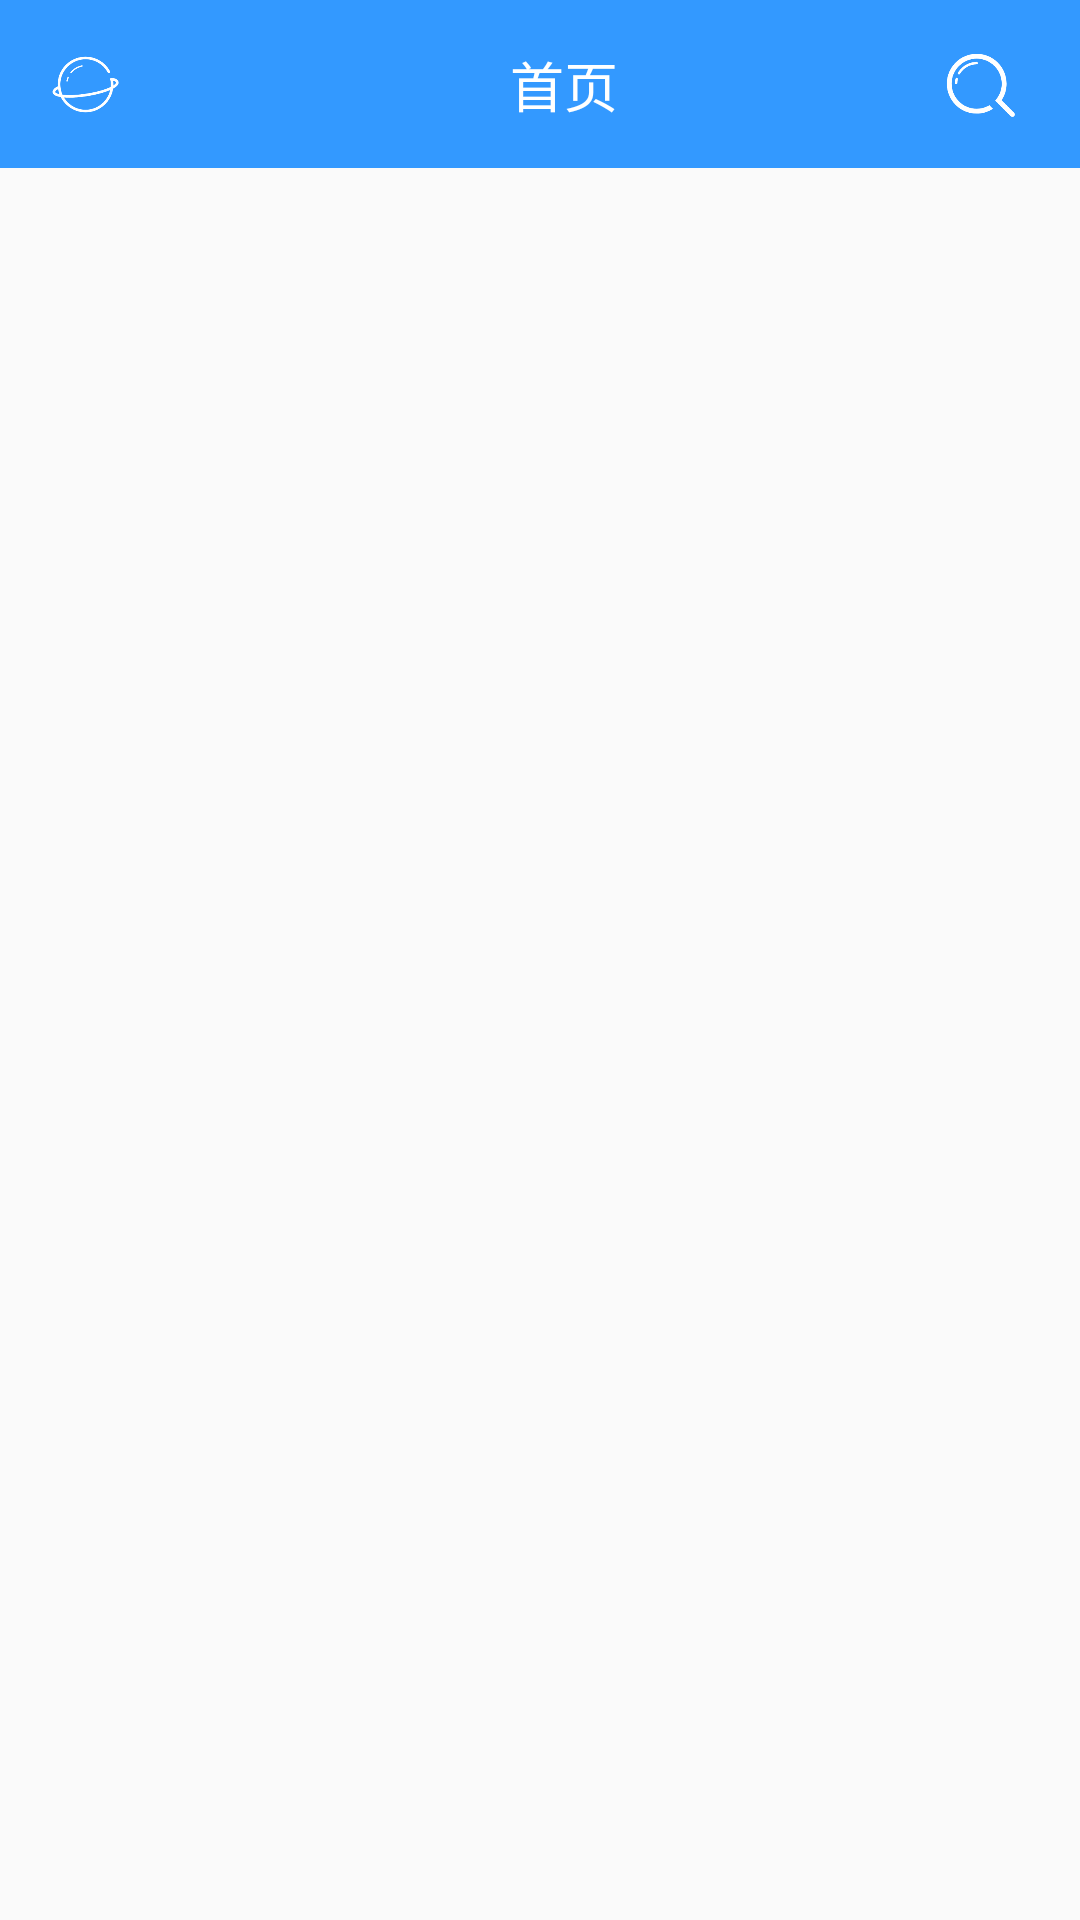

Locate icon controls on the screen. Image size 1080*1920, boxes as (x1=x1, y1=y1, x2=x2, y2=y2).
net: (x1=52, y1=56, x2=119, y2=113)
search: (x1=947, y1=54, x2=1015, y2=117)
